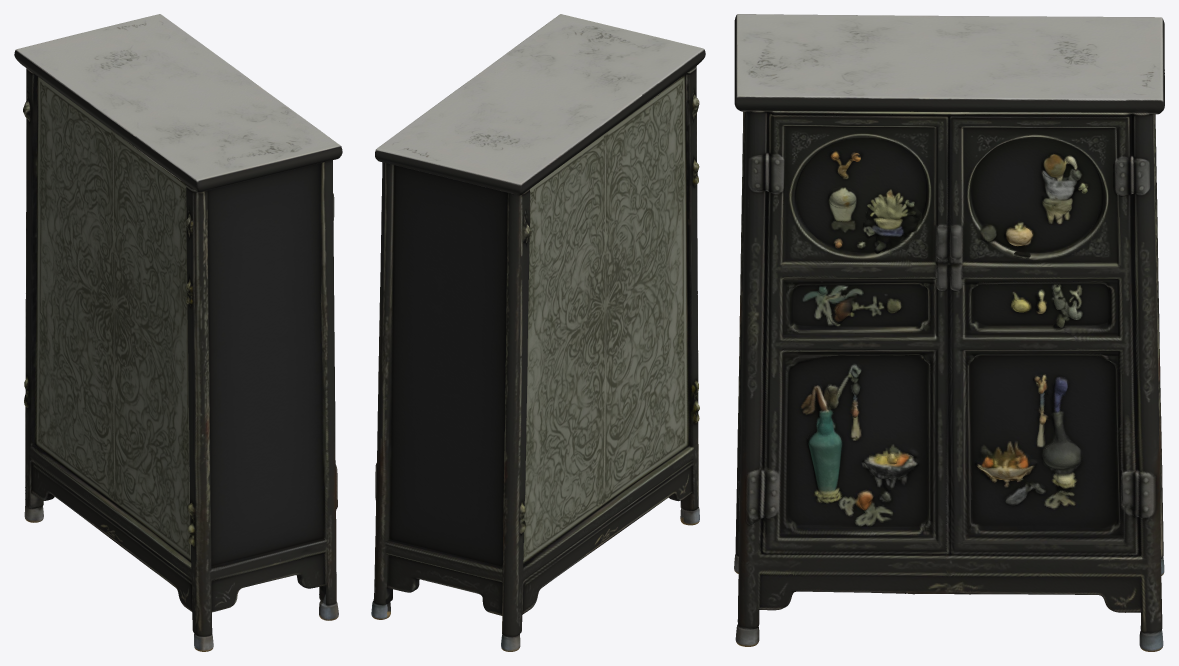
File: guizi.glb
3 renders of one model, left to right at view 1: azimuth 30°, elevation 25°; view 2: azimuth 150°, elevation 25°; view 3: azimuth 270°, elevation 25°, orthographic. The views are drawn at different scales.
Visible parts, largest first — view 1: tripo_node_7780246b-34fc-4687-ba19-8e02e8715342; view 2: tripo_node_7780246b-34fc-4687-ba19-8e02e8715342; view 3: tripo_node_7780246b-34fc-4687-ba19-8e02e8715342.
Boxes of the visible parts, bbox=[...] form: tripo_node_7780246b-34fc-4687-ba19-8e02e8715342: bbox=[14, 14, 342, 651]; tripo_node_7780246b-34fc-4687-ba19-8e02e8715342: bbox=[371, 14, 705, 651]; tripo_node_7780246b-34fc-4687-ba19-8e02e8715342: bbox=[734, 14, 1164, 651].
Bounding box in the file's own units: 0.345 × 1 × 0.7073.
1 material, 1 textured.
